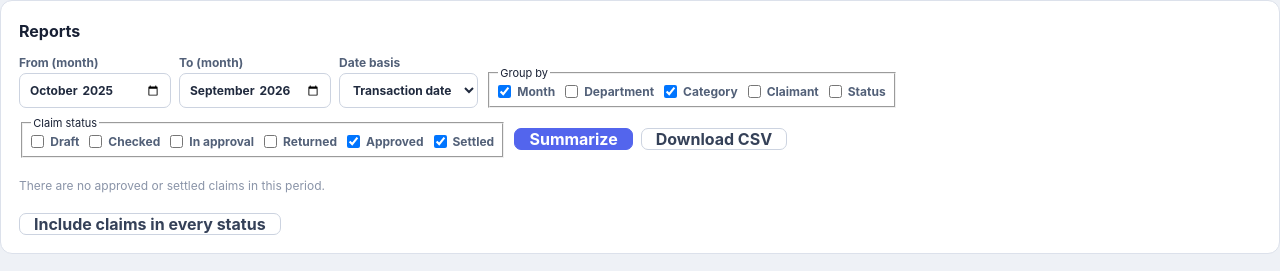
ReportsLedger › 正常: 0 件は赤くせず、状態の選択を広げるボタンですべての状態を集計する
Expected: the text "There are no approved or settled claims in this period." is shown, x1=19 y1=178 x2=325 y2=193
Click the button "Include claims in every status": (150,224) x1=19 y1=213 x2=281 y2=235
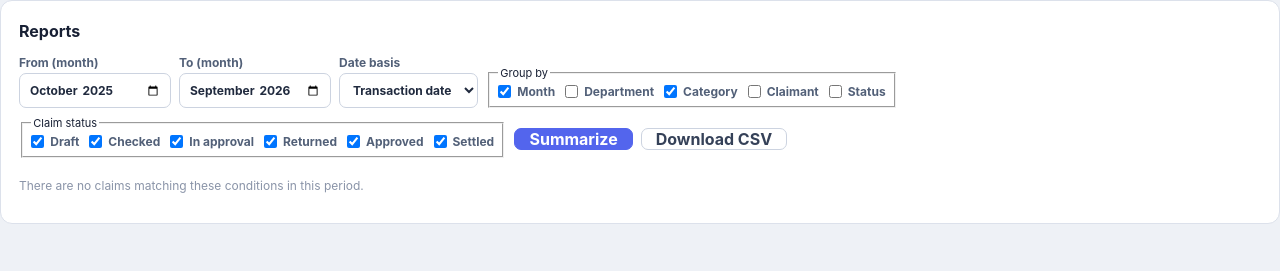
Result: the text "There are no claims matching these conditions in this period." is shown at x1=19 y1=178 x2=364 y2=193
Result: the button "Include claims in every status" is gone
Result: the checkbox labelled "Draft" is checked at x1=31 y1=135 x2=44 y2=148
